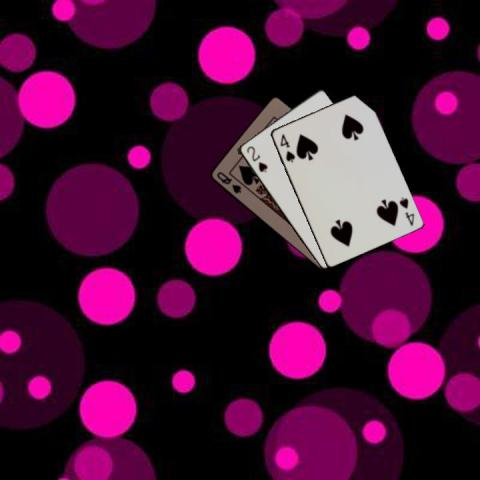2s: (243, 143, 269, 174)
4s: (277, 131, 296, 164), (396, 194, 415, 227)
Qs: (213, 168, 243, 194)
